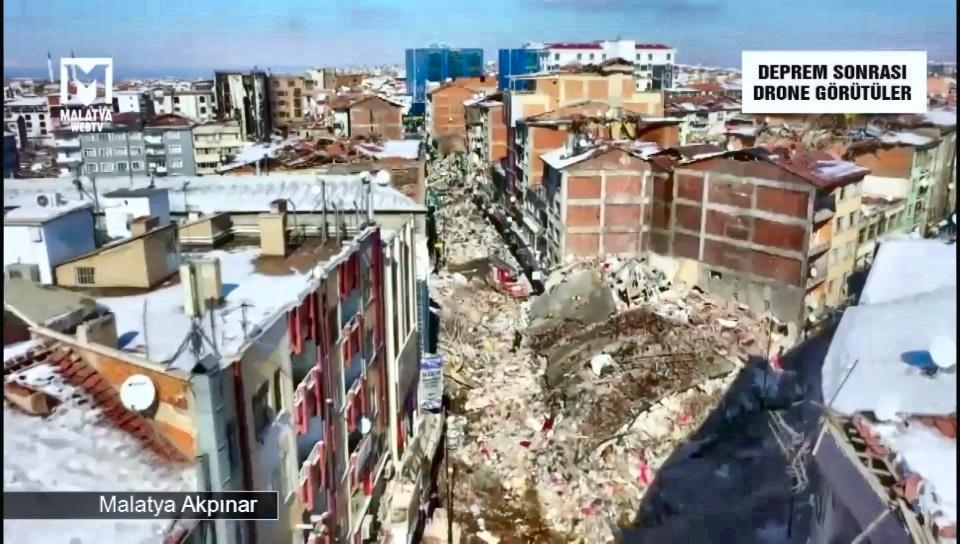kapali: (419, 268, 617, 543), (424, 153, 519, 265)
